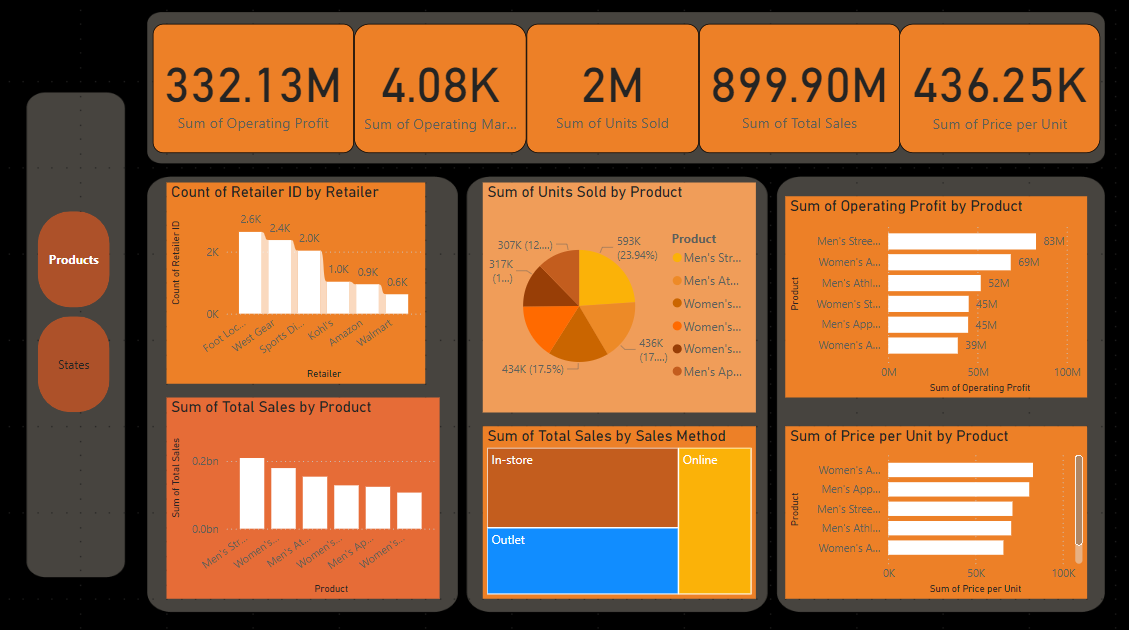

Layout of this report page (visuals, bound fields, positions):
{"tool":"powerbi","page":{"name":" Products","canvas":[1280,720],"ordinal":0},"visuals":[{"type":"treemap","fields":{"Group":["Table 1 (Data Sales Adidas).Sales Method"],"Values":["Sum(Table 1 (Data Sales Adidas).Total Sales)"]},"box":[544,480,304,192],"z":0},{"type":"barChart","fields":{"Category":["Table 1 (Data Sales Adidas).Product"],"Y":["Sum(Table 1 (Data Sales Adidas).Price per Unit)"]},"box":[880,480,336,192],"z":1000},{"type":"clusteredBarChart","fields":{"Category":["Table 1 (Data Sales Adidas).Product"],"Y":["Sum(Table 1 (Data Sales Adidas).Operating Profit)"]},"box":[880,224,336,224],"z":2000},{"type":"clusteredColumnChart","fields":{"Category":["Table 1 (Data Sales Adidas).Product"],"Y":["Sum(Table 1 (Data Sales Adidas).Total Sales)"]},"box":[192,448,304,224],"z":3000},{"type":"columnChart","fields":{"Category":["Table 1 (Data Sales Adidas).Retailer"],"Y":["CountNonNull(Table 1 (Data Sales Adidas).Retailer ID)"]},"box":[192,208,288,224],"z":4000},{"type":"pieChart","fields":{"Category":["Table 1 (Data Sales Adidas).Product"],"Y":["Sum(Table 1 (Data Sales Adidas).Units Sold)"]},"box":[544,208,304,256],"z":5000},{"type":"card","fields":{"Values":["Sum(Table 1 (Data Sales Adidas).Total Sales)"]},"box":[784,32,224,144],"z":6000},{"type":"card","fields":{"Values":["Sum(Table 1 (Data Sales Adidas).Price per Unit)"]},"box":[1008,32,224,144],"z":7000},{"type":"card","fields":{"Values":["Sum(Table 1 (Data Sales Adidas).Operating Margin)"]},"box":[400,32,192,144],"z":8000},{"type":"card","fields":{"Values":["Sum(Table 1 (Data Sales Adidas).Units Sold)"]},"box":[592,32,192,144],"z":9000},{"type":"card","fields":{"Values":["Sum(Table 1 (Data Sales Adidas).Operating Profit)"]},"box":[176,32,224,144],"z":10000},{"type":"pageNavigator","box":[48,240,80,224],"z":10001}]}

Visuals, with their boxes in screenshot pixels (x1, y1, x2, y2), scaled from the page's 1280x720 canvas onto the 1129x630 screenshot:
treemap - Table 1 (Data Sales Adidas).Sales Method x Sum(Table 1 (Data Sales Adidas).Total Sales): bbox=[480, 420, 748, 588]
barChart - Table 1 (Data Sales Adidas).Product x Sum(Table 1 (Data Sales Adidas).Price per Unit): bbox=[776, 420, 1073, 588]
clusteredBarChart - Table 1 (Data Sales Adidas).Product x Sum(Table 1 (Data Sales Adidas).Operating Profit): bbox=[776, 196, 1073, 392]
clusteredColumnChart - Table 1 (Data Sales Adidas).Product x Sum(Table 1 (Data Sales Adidas).Total Sales): bbox=[169, 392, 437, 588]
columnChart - Table 1 (Data Sales Adidas).Retailer x CountNonNull(Table 1 (Data Sales Adidas).Retailer ID): bbox=[169, 182, 423, 378]
pieChart - Table 1 (Data Sales Adidas).Product x Sum(Table 1 (Data Sales Adidas).Units Sold): bbox=[480, 182, 748, 406]
card - Sum(Table 1 (Data Sales Adidas).Total Sales): bbox=[692, 28, 889, 154]
card - Sum(Table 1 (Data Sales Adidas).Price per Unit): bbox=[889, 28, 1087, 154]
card - Sum(Table 1 (Data Sales Adidas).Operating Margin): bbox=[353, 28, 522, 154]
card - Sum(Table 1 (Data Sales Adidas).Units Sold): bbox=[522, 28, 692, 154]
card - Sum(Table 1 (Data Sales Adidas).Operating Profit): bbox=[155, 28, 353, 154]
pageNavigator: bbox=[42, 210, 113, 406]
